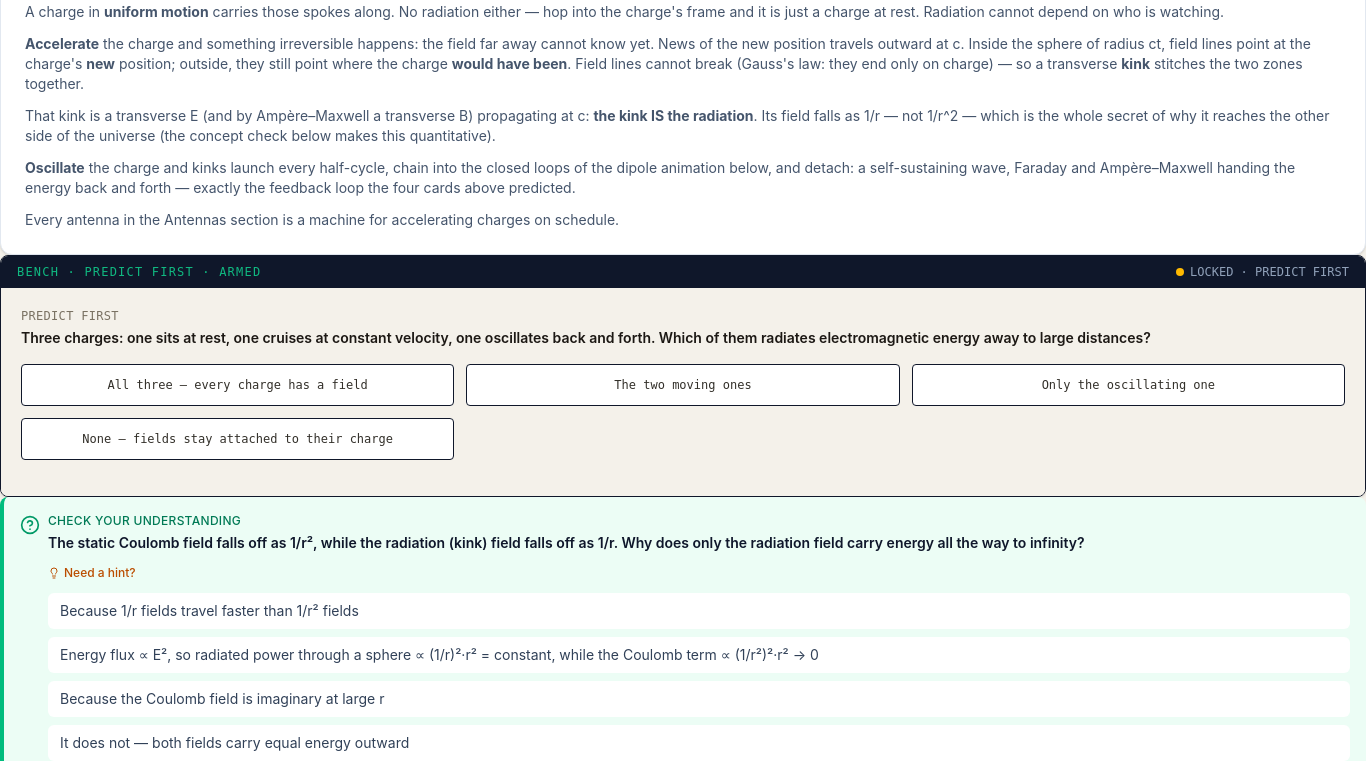
Test: Section smoke tests › MaxwellSection teaches the radiation mechanism behind a second blocking gate
(page scrolled)
Expected: the text "which of them radiates electromagnetic energy" is shown, [21,329,1151,346]
Expected: the text "why does only the radiation field carry energy" is shown, [48,534,1085,551]
Answer the prediction and continue → the kink sim canvas is revealed.
Click the button "Only the oscillating one" at x=1128, y=385, box [912,364,1345,406]
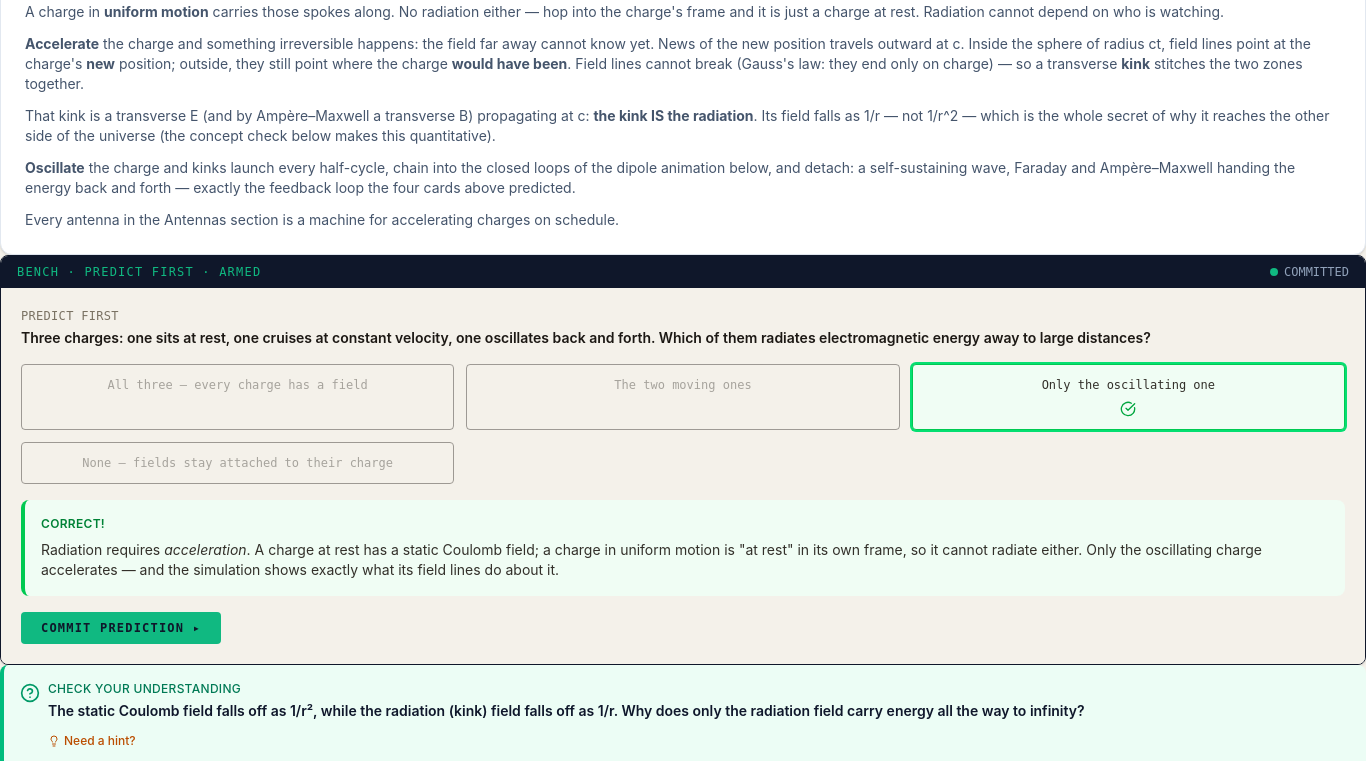
Expected: the text "Correct!" is shown, [41,516,105,531]
Click the button "COMMIT PREDICTION ▸" at x=121, y=628, box [21,612,221,644]
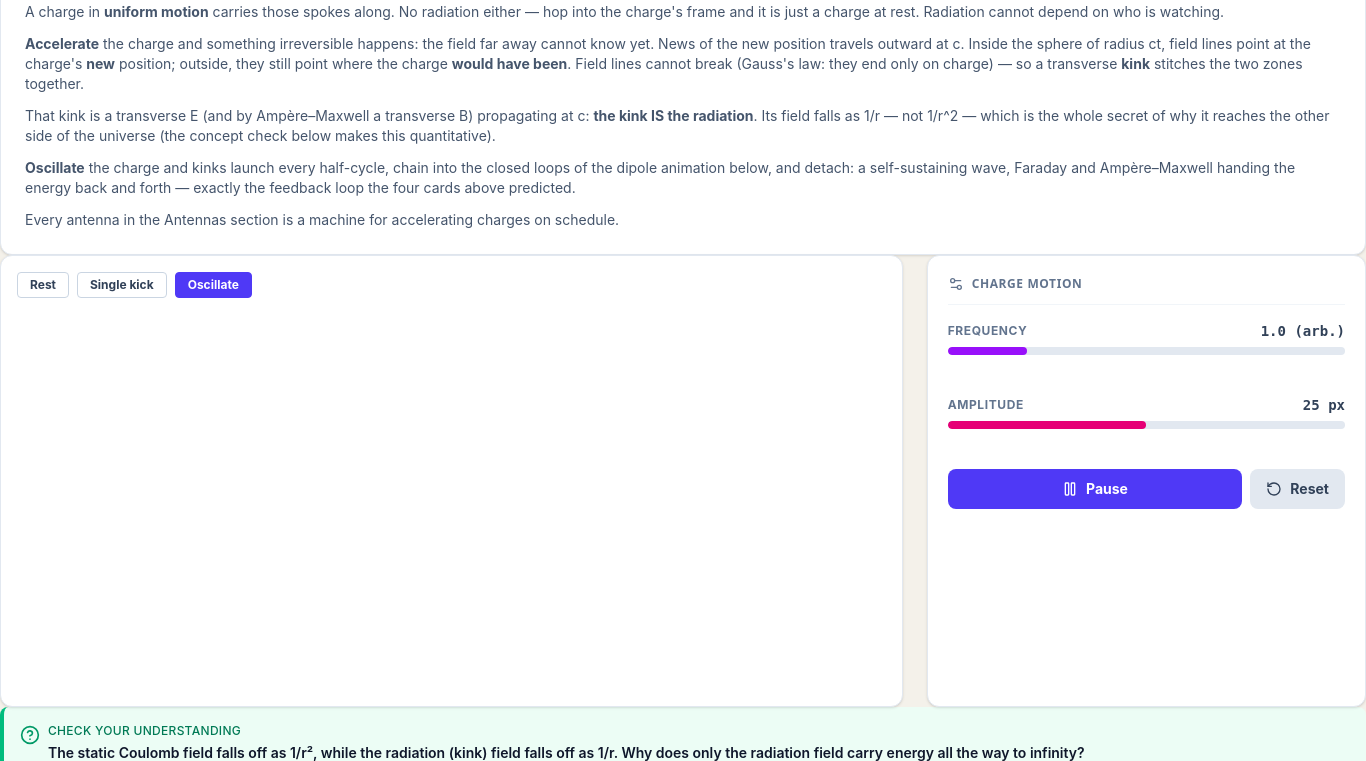
Expected: the picture named "radiating charge" is shown, [1,256,902,706]
